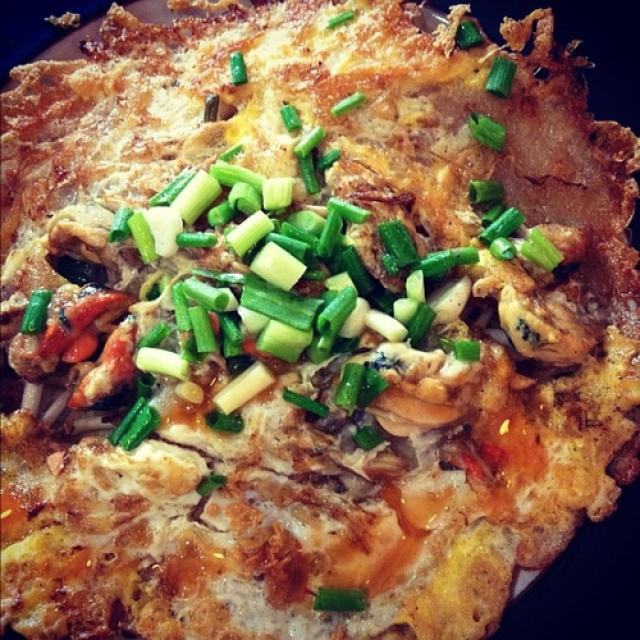炸货点心: (8, 5, 631, 629)
蛋糕甜品: (8, 5, 631, 629)
